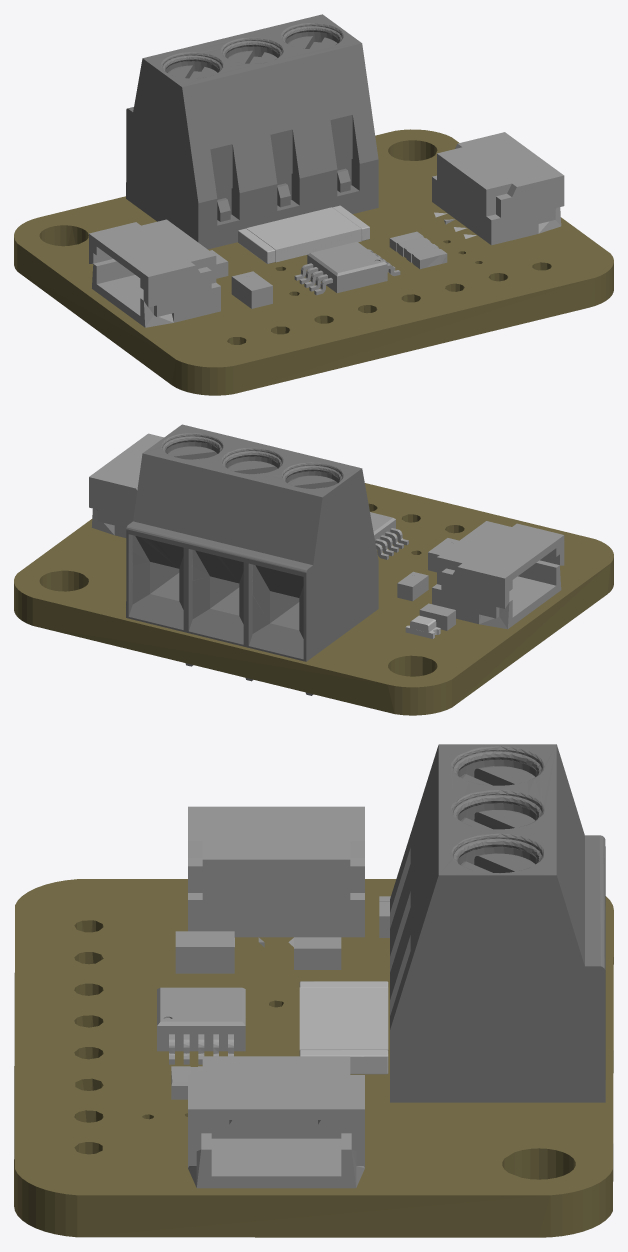
The model's file is adafruit-5832-ina228.glb.
3 views of the same model, one above another, from view 1: azimuth 30°, elevation 25°; view 2: azimuth 150°, elevation 25°; view 3: azimuth 270°, elevation 25° (orthographic). The views are drawn at different scales.
Parts seen in each view (by area): view 1: colour 1, colour 4, colour 2, colour 3; view 2: colour 4, colour 1, colour 2, colour 3; view 3: colour 1, colour 4, colour 2, colour 3.
Part boxes in pixels (bbox=[...]): colour 1: bbox=[14, 129, 613, 395]; colour 4: bbox=[126, 14, 378, 249]; colour 2: bbox=[89, 132, 564, 327]; colour 3: bbox=[238, 205, 369, 263]; colour 4: bbox=[126, 424, 378, 695]; colour 1: bbox=[14, 483, 613, 715]; colour 2: bbox=[89, 433, 564, 630]; colour 3: bbox=[405, 615, 440, 638]; colour 1: bbox=[14, 879, 613, 1237]; colour 4: bbox=[390, 744, 605, 1102]; colour 2: bbox=[157, 806, 390, 1188]; colour 3: bbox=[299, 981, 388, 1074].
Bounding box in the file's own units: 0.0254 × 0.0121 × 0.0203.
